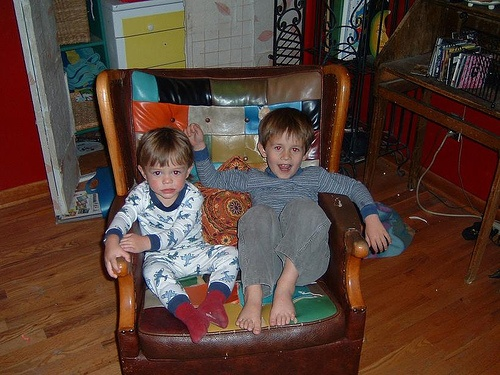head: (256, 109, 314, 182), (136, 128, 194, 201)
person: (185, 96, 400, 350), (106, 124, 237, 338)
